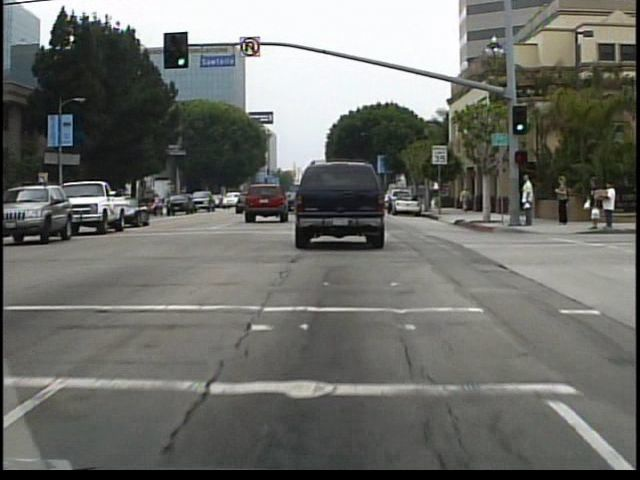person: (517, 168, 538, 229), (553, 172, 573, 228), (456, 183, 472, 214), (422, 184, 434, 212)
